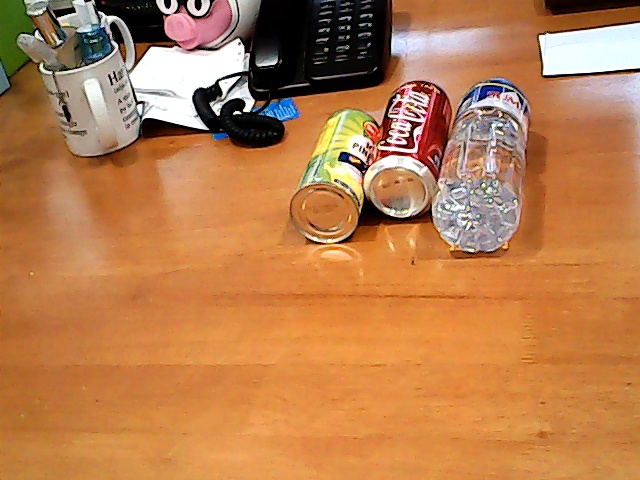Cola: (359, 74, 453, 218)
Pine Juice: (285, 99, 376, 250)
Summit Water: (428, 58, 534, 269)
